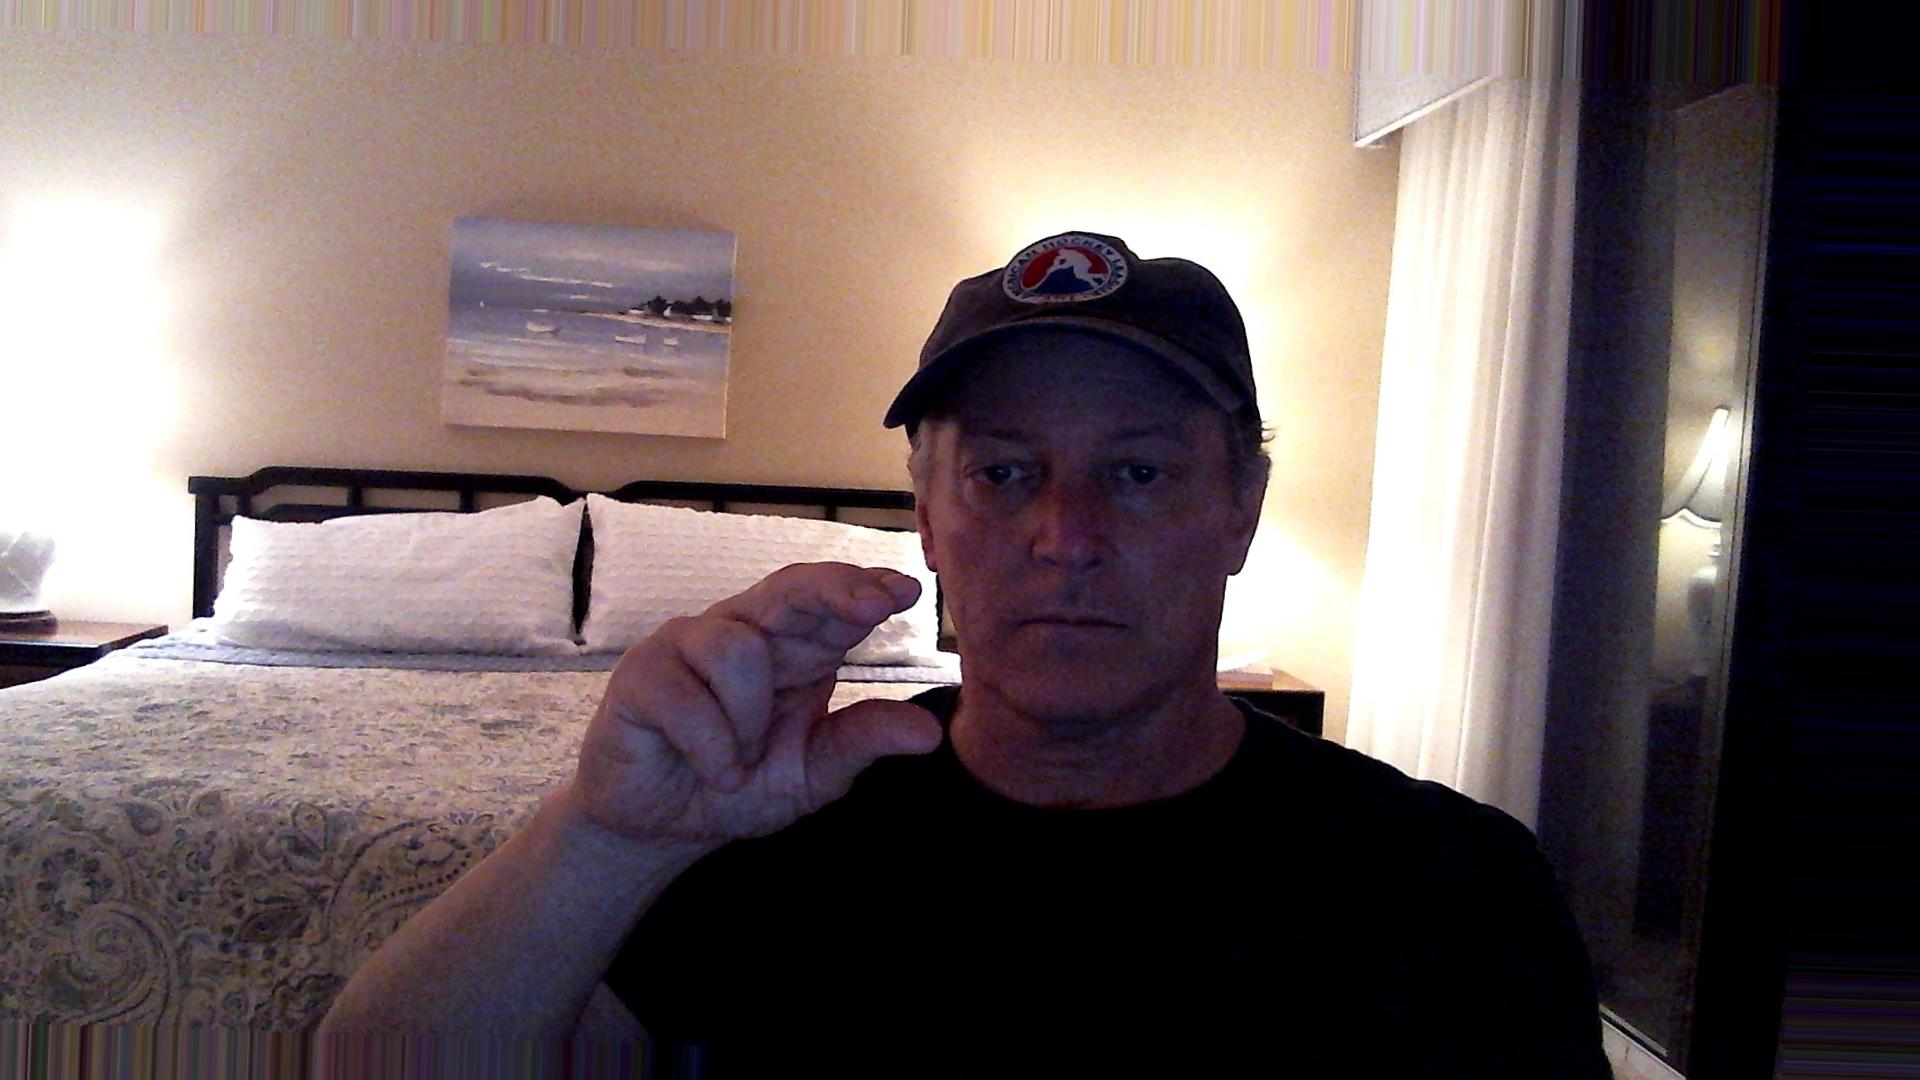No: (572, 547, 972, 852)
